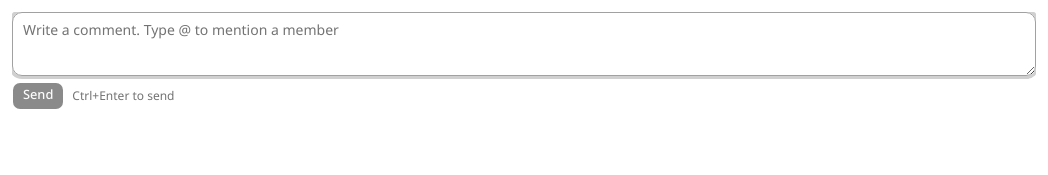
Scenario: CommentEditor › @ opens the picker, filters, Enter inserts the token
This screenshot has width=1048, height=175.
Type "hi @" into the text box. click: (524, 44)
box: [12, 12, 1036, 76]
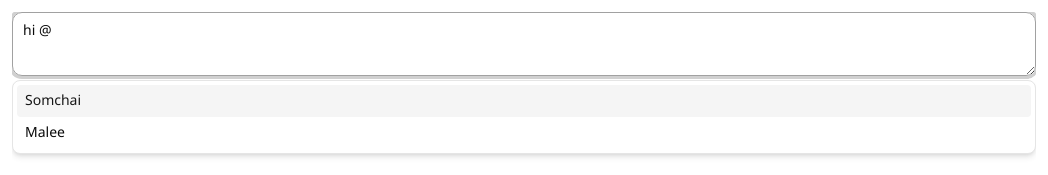
Expected: the number of options is 2, [17, 85, 1031, 117]; [25, 122, 65, 143]
Replace the text in the text box with "hi @ma". click: (524, 44)
box: [12, 12, 1036, 76]
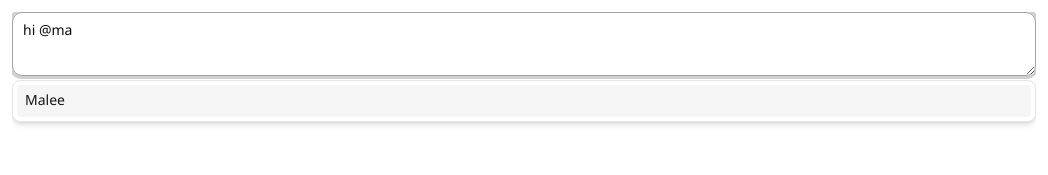
Expected: the options read "Malee", in this order, [17, 85, 1031, 117]
Press Enter in the text box, box [12, 12, 1036, 76]
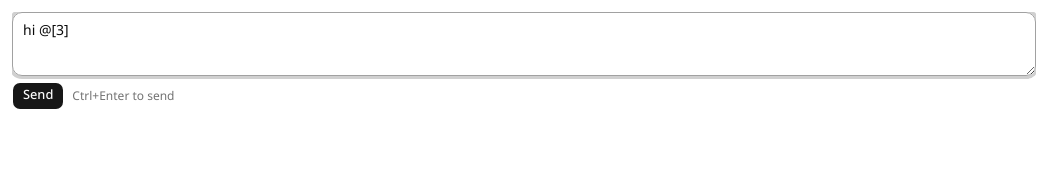
Expected: the text box holds "hi @[3] ", [12, 12, 1036, 76]
Expected: the list is gone
